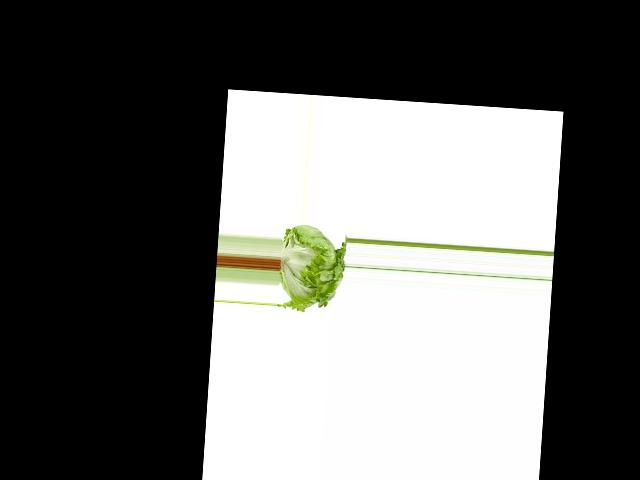lettuce: (276, 220, 347, 317)
